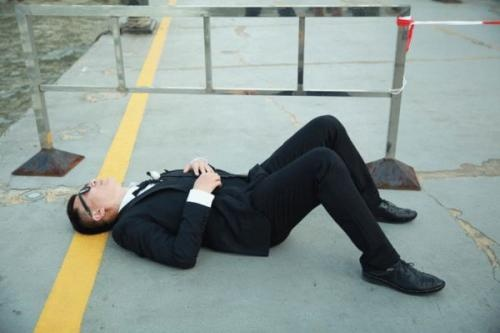falling: (54, 110, 454, 286)
